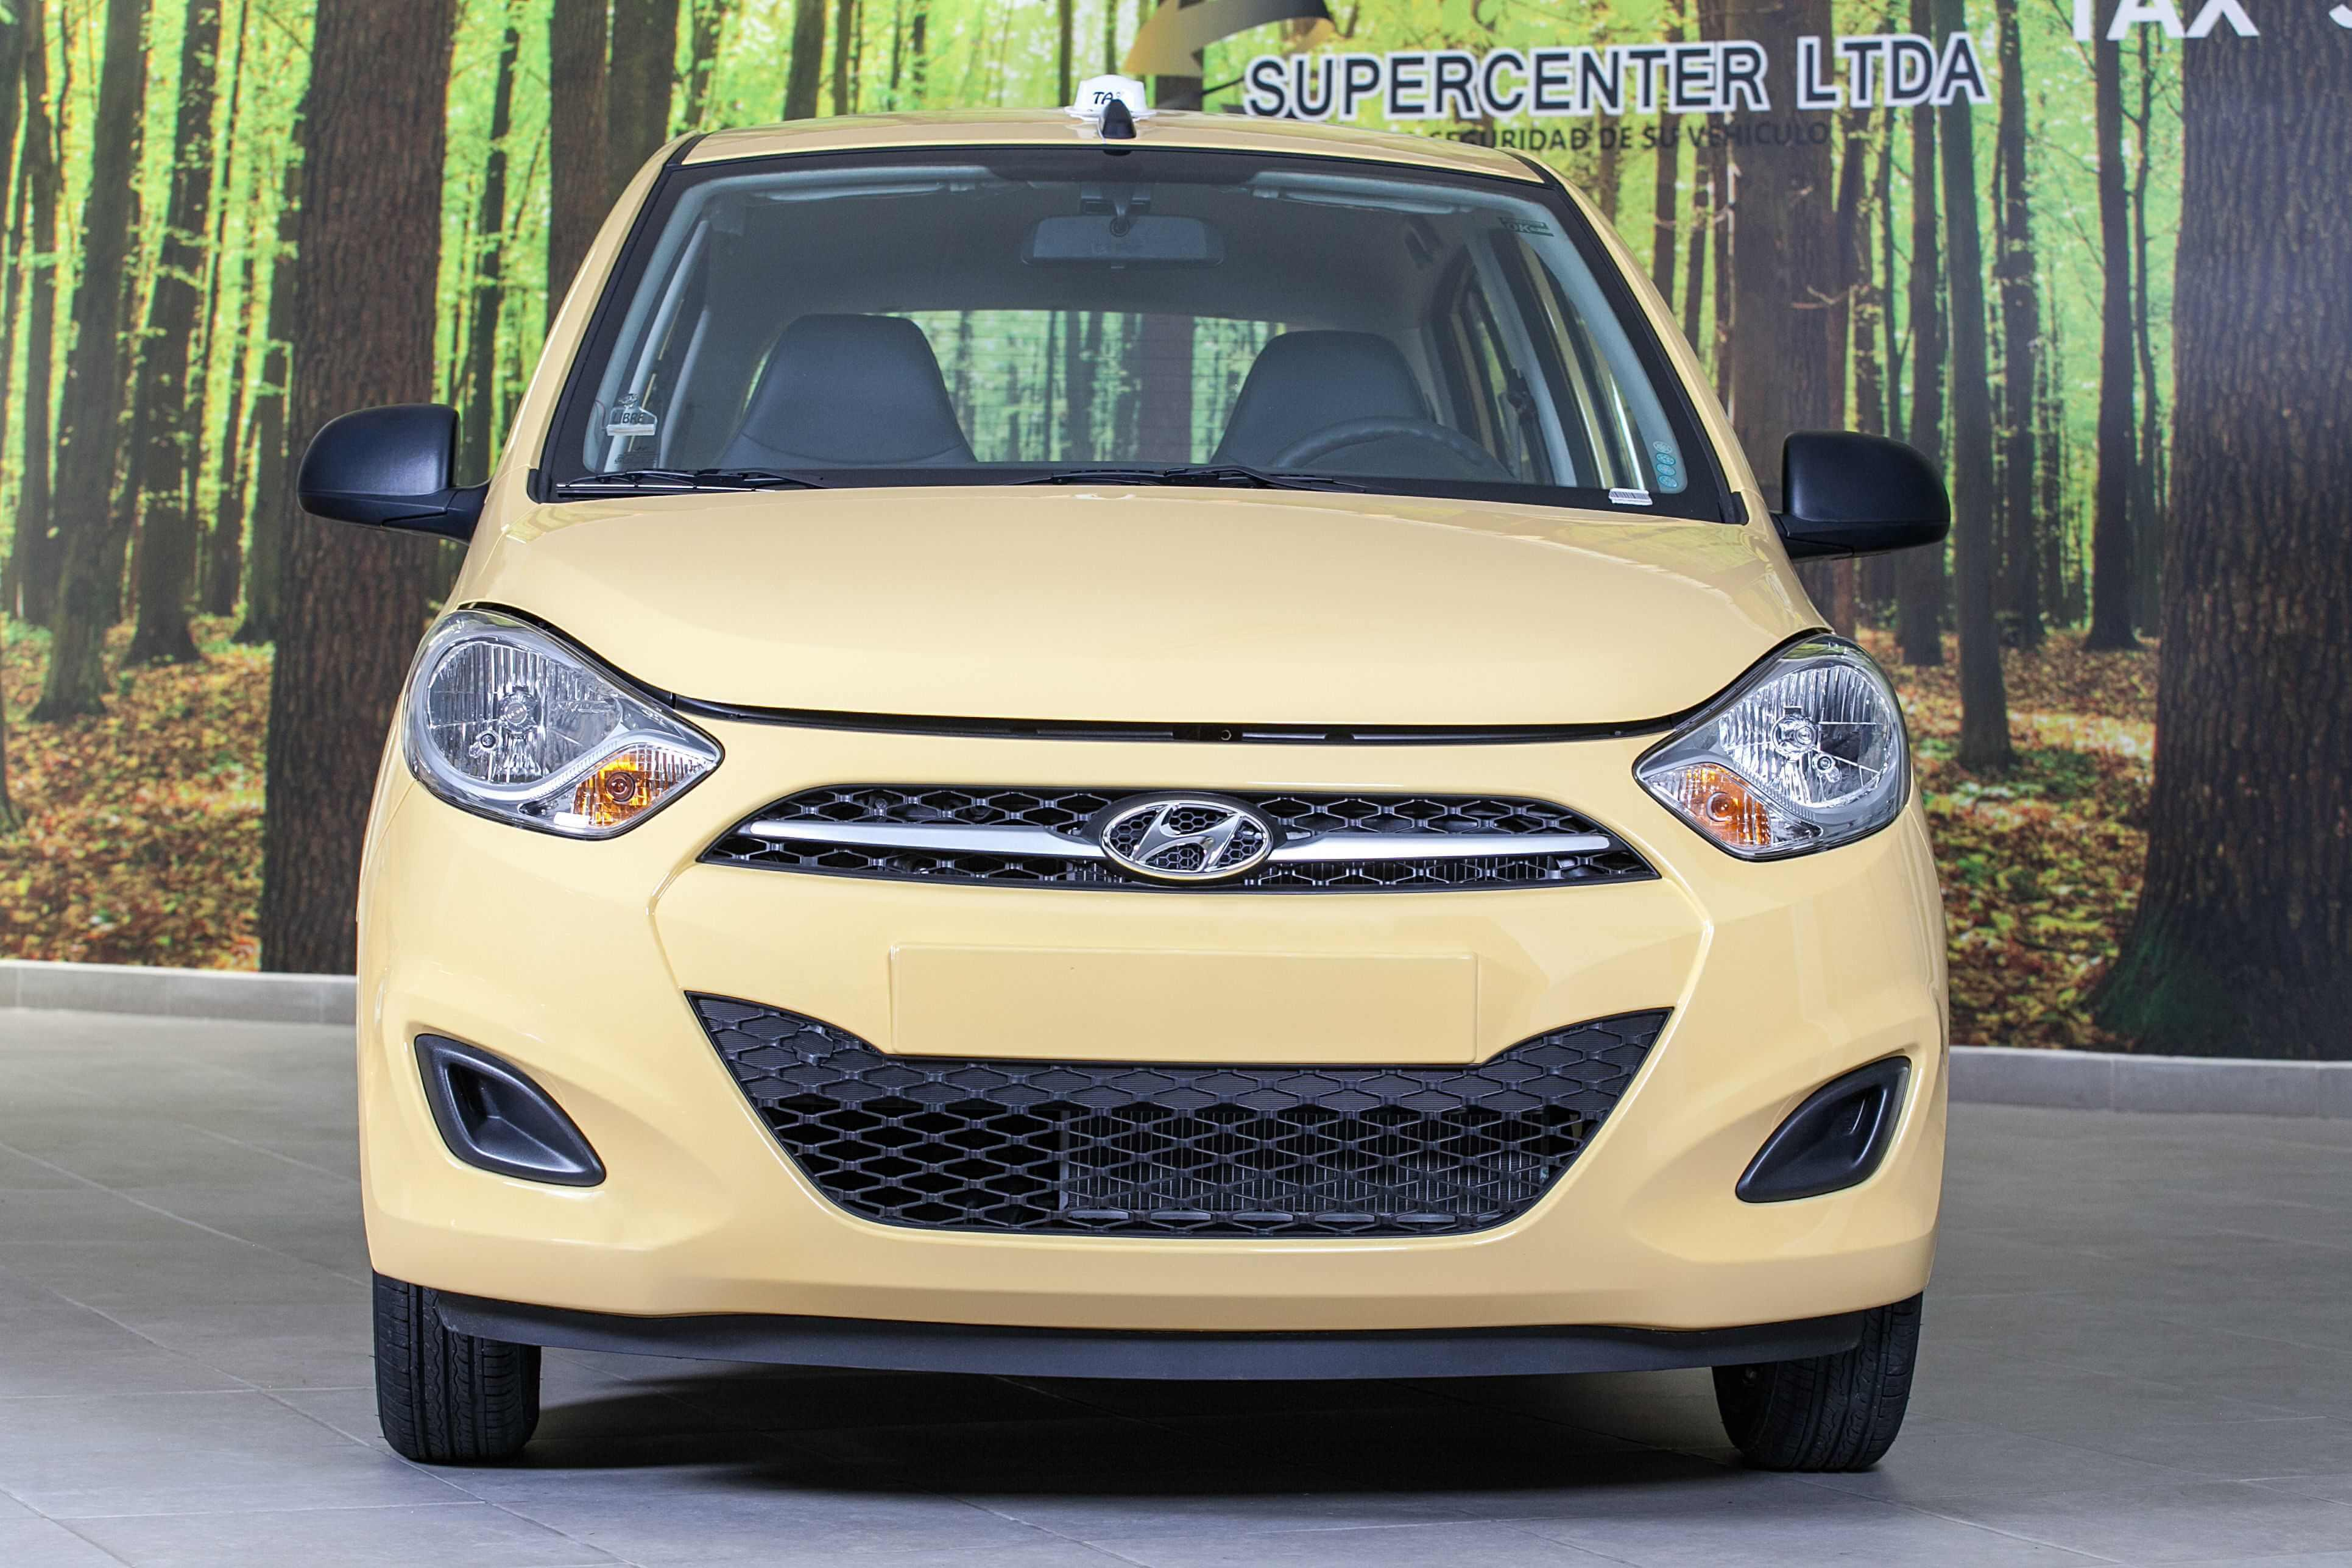taxi: (348, 47, 2033, 1480)
